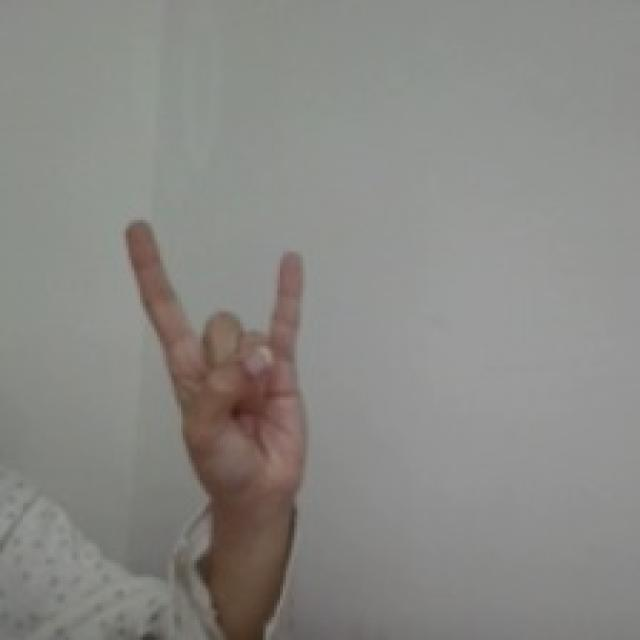No: (122, 215, 312, 505)
